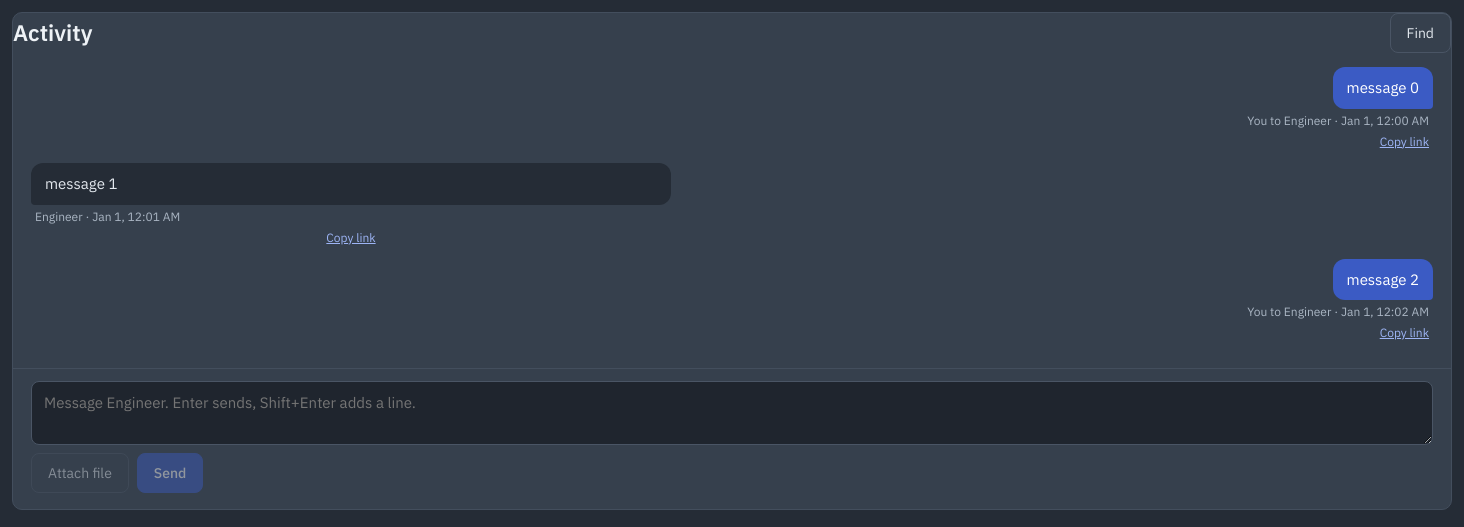
Scenario: ticket conversation: link to one message (BOS-2456) › Copy link puts the ticket address and the message id on the clipboard
The image size is (1464, 527).
Expected: the text "message 2" is shown, [1332,258,1433,300]
Click the button "Copy link" below "Jan 1, 12:01 AM" at (351,238), box [31,228,671,246]
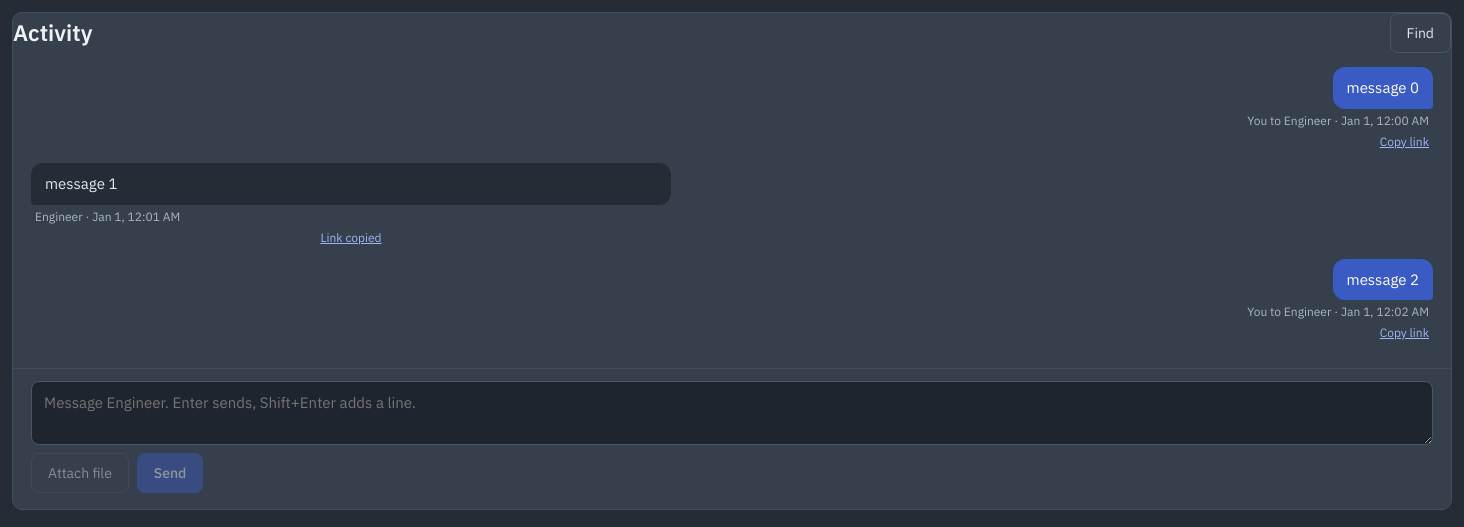
Now the button "Link copied" is shown, box [31,228,671,246]
